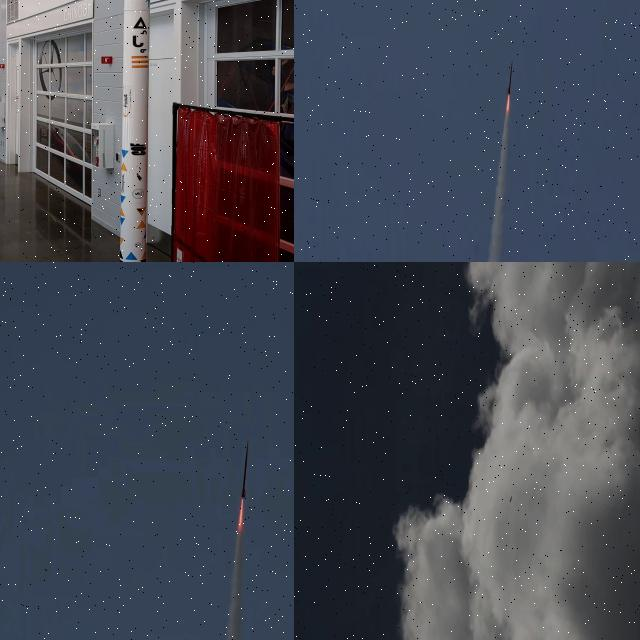Rocket: (120, 0, 150, 262), (241, 440, 248, 496), (507, 59, 513, 96), (509, 495, 513, 503)
